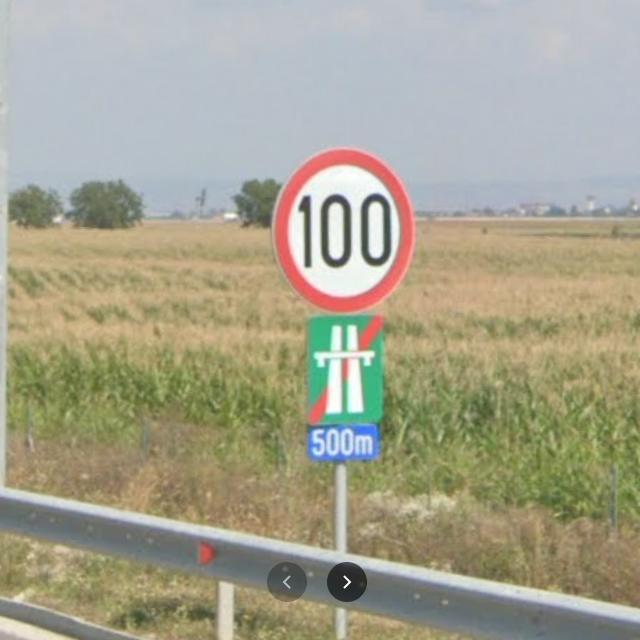forb_speed_over_100: (272, 149, 417, 314)
